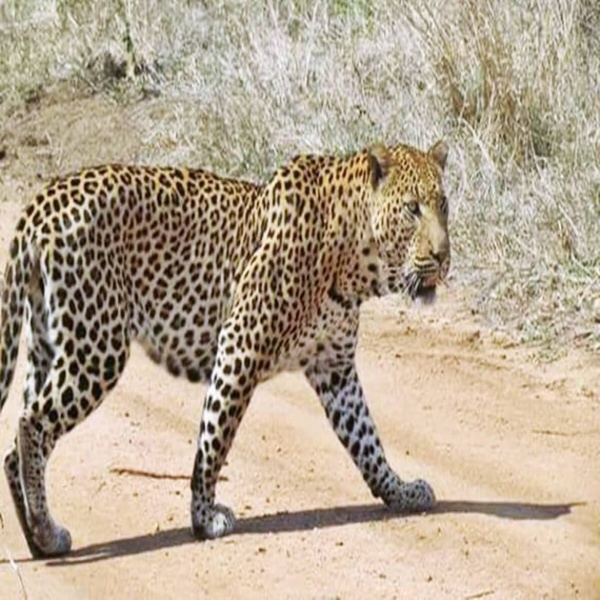Leopard: (1, 139, 459, 563)
